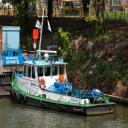tugboat: (11, 49, 118, 118)
